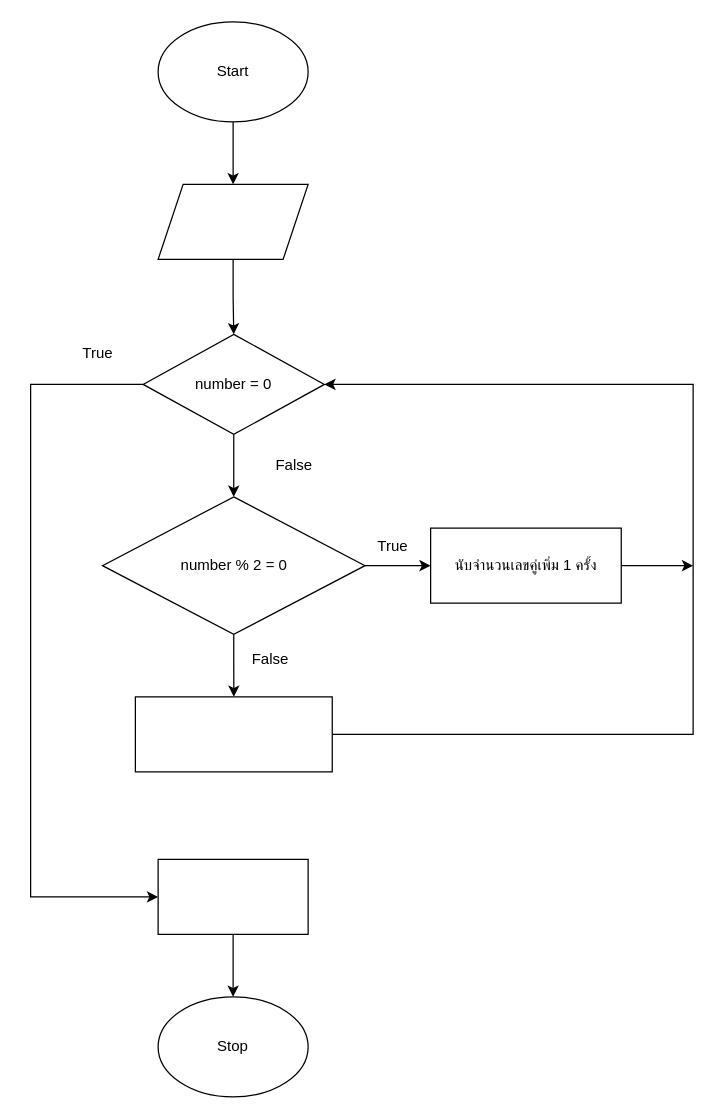
Some shapes in this 725 by 1119 pixel diagram are drawn without their labels. Here are the shapes that lost their labels. From the top down, the centre of each, then its label:
point (232, 221): Input score
point (233, 734): นับจำนวนเลขคี่เพิ่ม 1 ครั้ง
point (232, 896): แสดงผลจำนวนคู่-คี่
